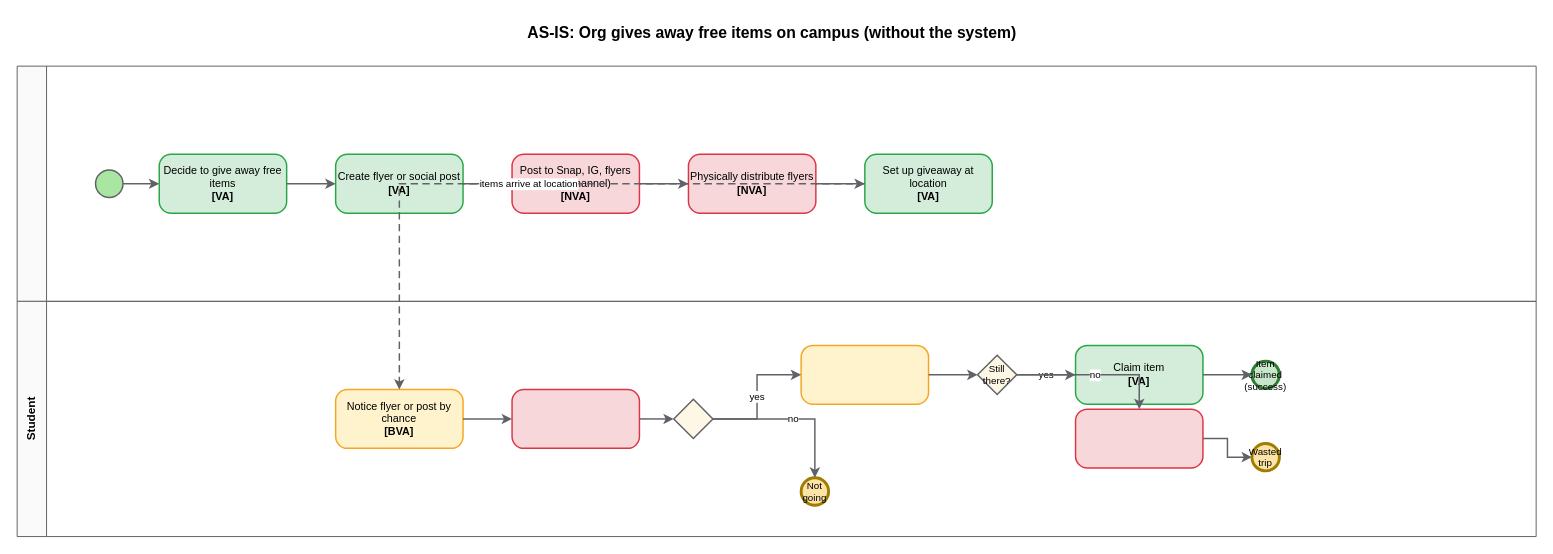
Some shapes in this 1553 by 554 pixel diagram are drawn without their labels. The box of each missing label's shape, as (x1, y1, x2, y2) in pixels:
Find items already gone [NVA]: (1074, 408, 1203, 468)
Org / Faculty / Staff Rep: (16, 65, 1536, 301)
Start: (94, 169, 123, 198)
Walk over?: (673, 398, 713, 439)
Walk to location [BVA]: (800, 344, 929, 405)
Wonder if items still available [NVA]: (511, 388, 640, 449)
